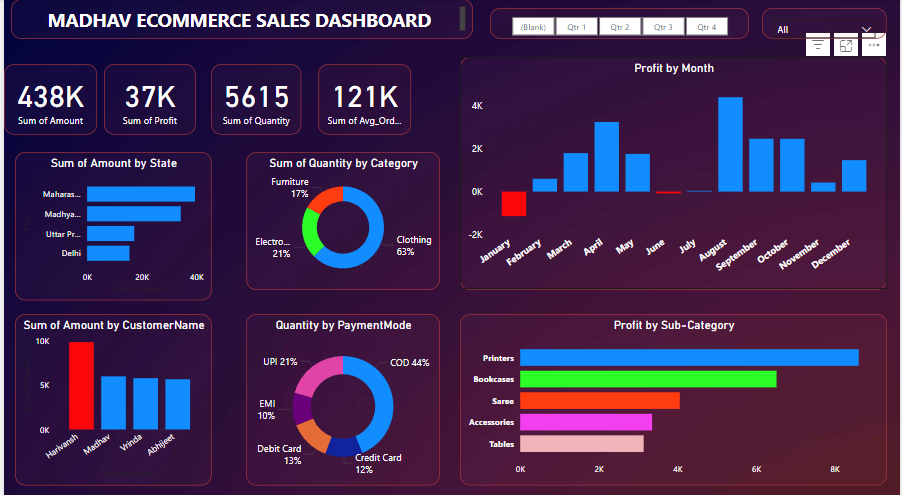

The dashboard page shown, as its layout file describes it:
{"tool":"powerbi","page":{"name":"Page 1","canvas":[1280,720],"ordinal":0},"visuals":[{"type":"textbox","box":[10.1,0,660.2,57.1],"z":0},{"type":"columnChart","title":" Profit by Month","fields":{"Category":["Orders.Order Date.Variation.Date Hierarchy.Month"],"Y":["Details.Profit"]},"box":[651.8,82.3,609.8,332.6],"z":1},{"type":"barChart","title":"Profit by Sub-Category","fields":{"Category":["Details.Sub-Category"],"Y":["Details.Profit"]},"box":[651.8,450.2,609.8,245.2],"z":2},{"type":"donutChart","fields":{"Category":["Details.Category"],"Y":["Details.Quantity"]},"box":[346,218.4,277.2,196.5],"z":3},{"type":"donutChart","title":"Quantity by PaymentMode","fields":{"Y":["Details.Quantity"],"Series":["Details.PaymentMode"]},"box":[346,450.2,277.2,245.2],"z":4},{"type":"card","fields":{"Values":["Details.Amount"]},"box":[0,92.4,132.7,100.8],"z":5},{"type":"card","fields":{"Values":["Details.Quantity"]},"box":[295.6,92.4,129.3,100.8],"z":6},{"type":"card","fields":{"Values":["Details.Profit"]},"box":[142.8,92.4,131,100.8],"z":7},{"type":"card","fields":{"Values":["Details.Avg_Order_Value"]},"box":[448.5,92.4,132.7,100.8],"z":8},{"type":"barChart","title":"Sum of Amount by State","fields":{"Category":["Orders.City"],"Y":["Details.Amount"]},"box":[15.1,218.4,280.5,211.7],"z":9},{"type":"columnChart","fields":{"Y":["Details.Amount"],"Category":["Orders.CustomerName"]},"box":[15,450,281,245],"z":10},{"type":"slicer","fields":{"Values":["Orders.Order Date.Variation.Date Hierarchy.Quarter"]},"box":[693.8,13.4,369.6,43.7],"z":11},{"type":"slicer","fields":{"Values":["Orders.City"]},"box":[1083.5,13.4,178.1,43.7],"z":12}]}

Visuals, with their boxes in screenshot pixels (x1, y1, x2, y2), scaled from the page's 1280x720 canvas onto the 902x495 screenshot:
textbox: [7,0,472,39]
" Profit by Month" columnChart: [459,57,889,285]
"Profit by Sub-Category" barChart: [459,310,889,478]
donutChart - Details.Category x Details.Quantity: [244,150,439,285]
"Quantity by PaymentMode" donutChart: [244,310,439,478]
card - Details.Amount: [0,64,94,133]
card - Details.Quantity: [208,64,299,133]
card - Details.Profit: [101,64,193,133]
card - Details.Avg_Order_Value: [316,64,410,133]
"Sum of Amount by State" barChart: [11,150,208,296]
columnChart - Details.Amount x Orders.CustomerName: [11,309,209,478]
slicer - Orders.Order Date.Variation.Date Hierarchy.Quarter: [489,9,749,39]
slicer - Orders.City: [764,9,889,39]
